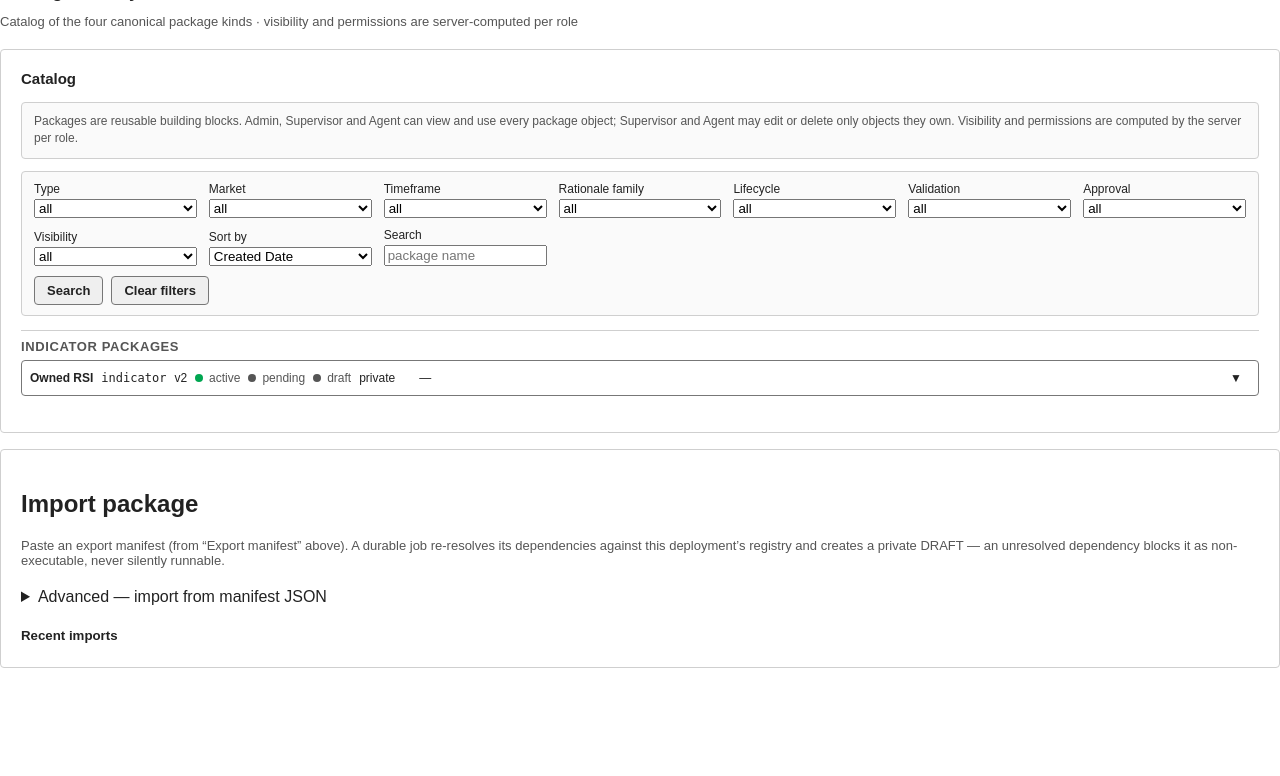
Test: Package Library — Request Validation (G-04) › shows the idle action when the server marks can_request_validation
Expected: the text "Owned RSI" is shown, [30,371,93,385]
Click the button named "Detail" at (1236, 378), box [1222,364,1250,392]
(page scrolled)
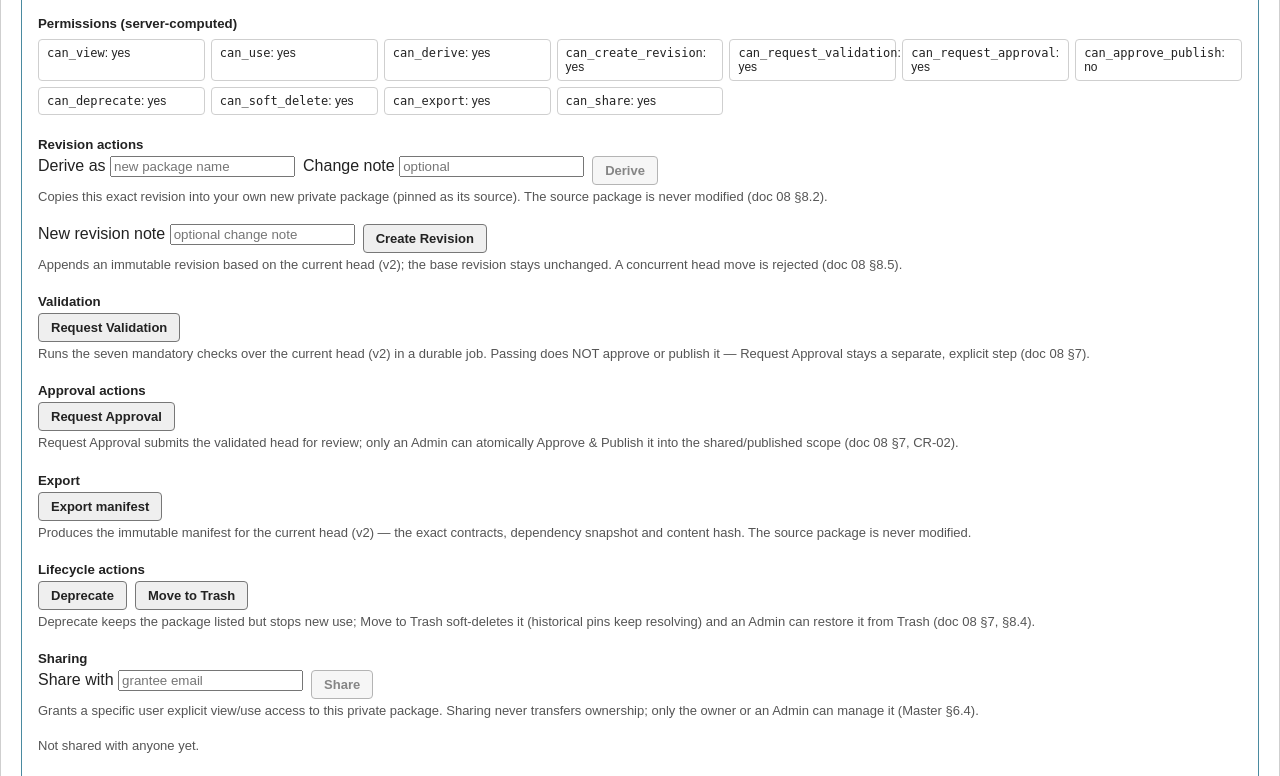
Expected: the heading "Lifecycle actions" is shown, [38,562,145,577]
Expected: the button "Request Validation" is shown, [38,313,180,342]
